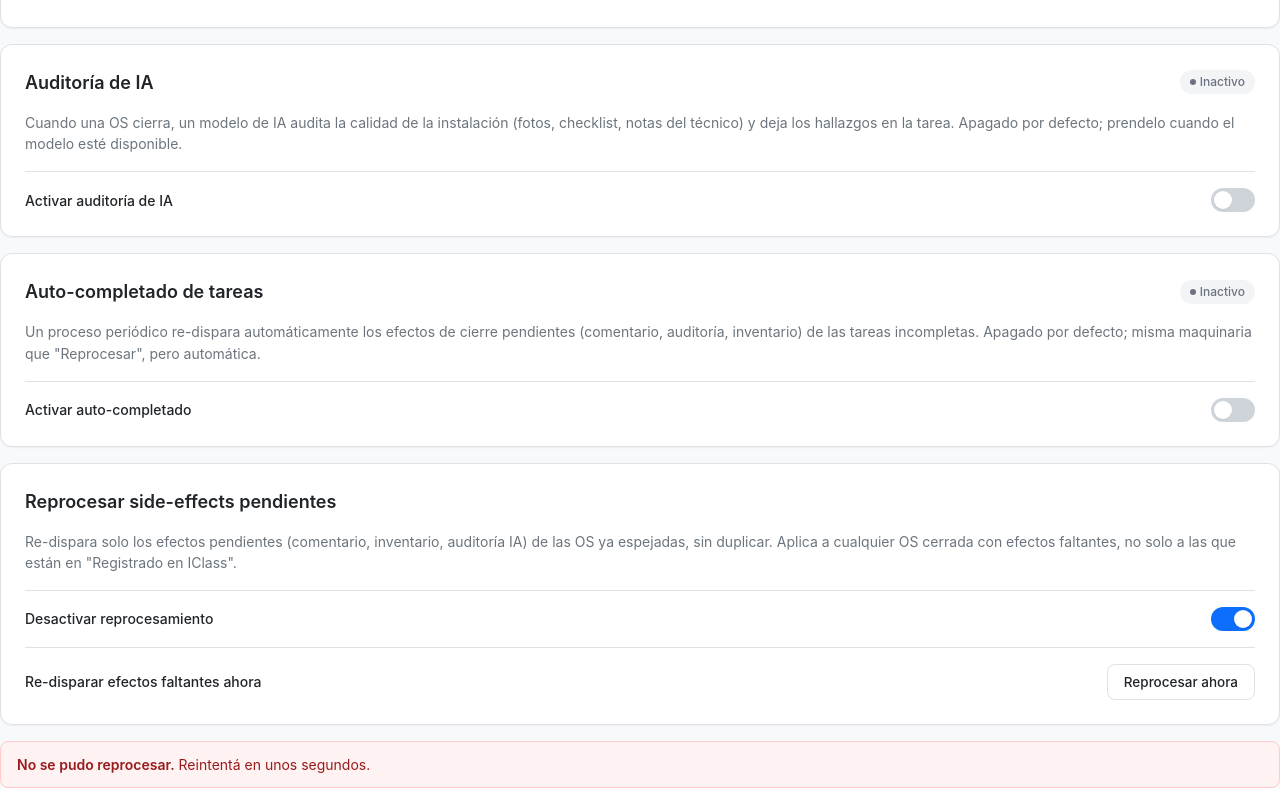
Scenario: IClassClosureFlagBody › does NOT show the generic "No se pudo reprocesar" when 503 unavailable
(page scrolled)
Click the button "Reprocesar ahora". click: (1181, 682)
box: [1107,664,1255,700]
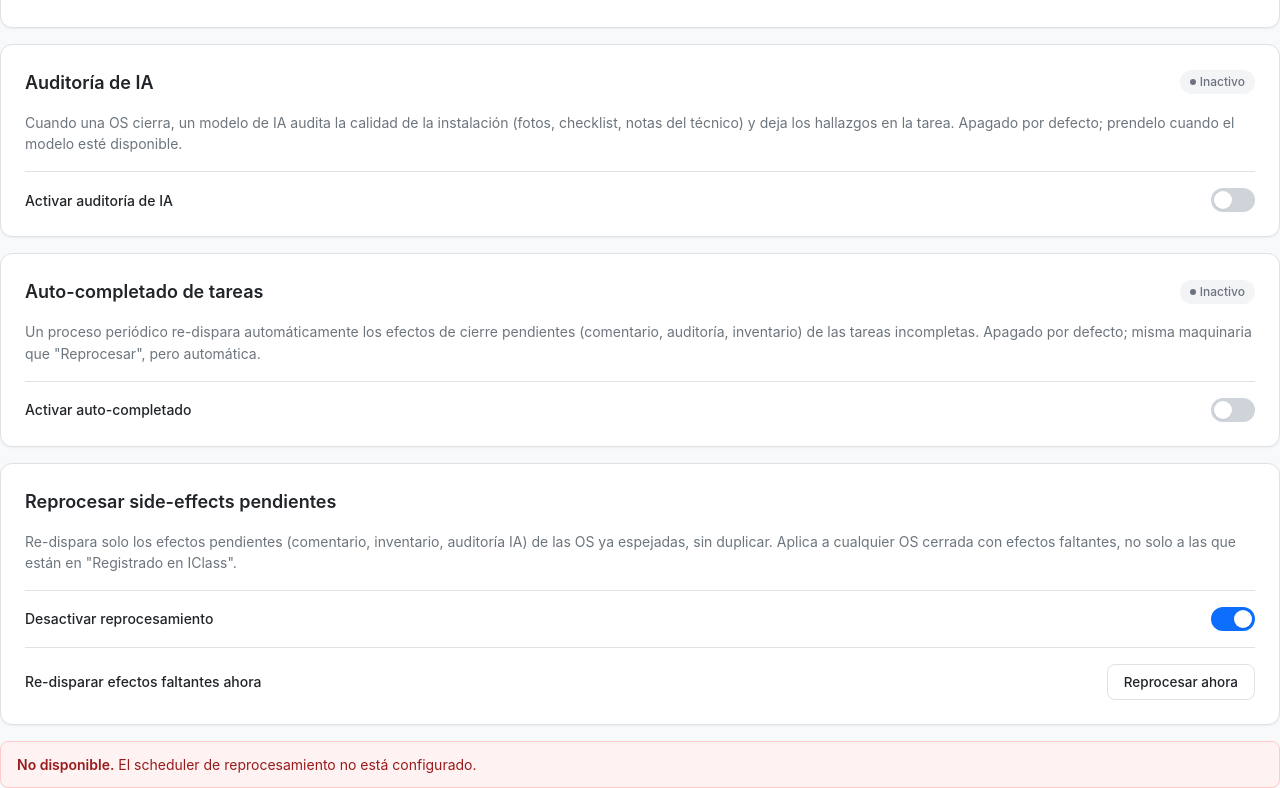
Now the text "No disponible." is shown, box [17,756,114,773]
Now the text "No se pudo reprocesar" is gone
